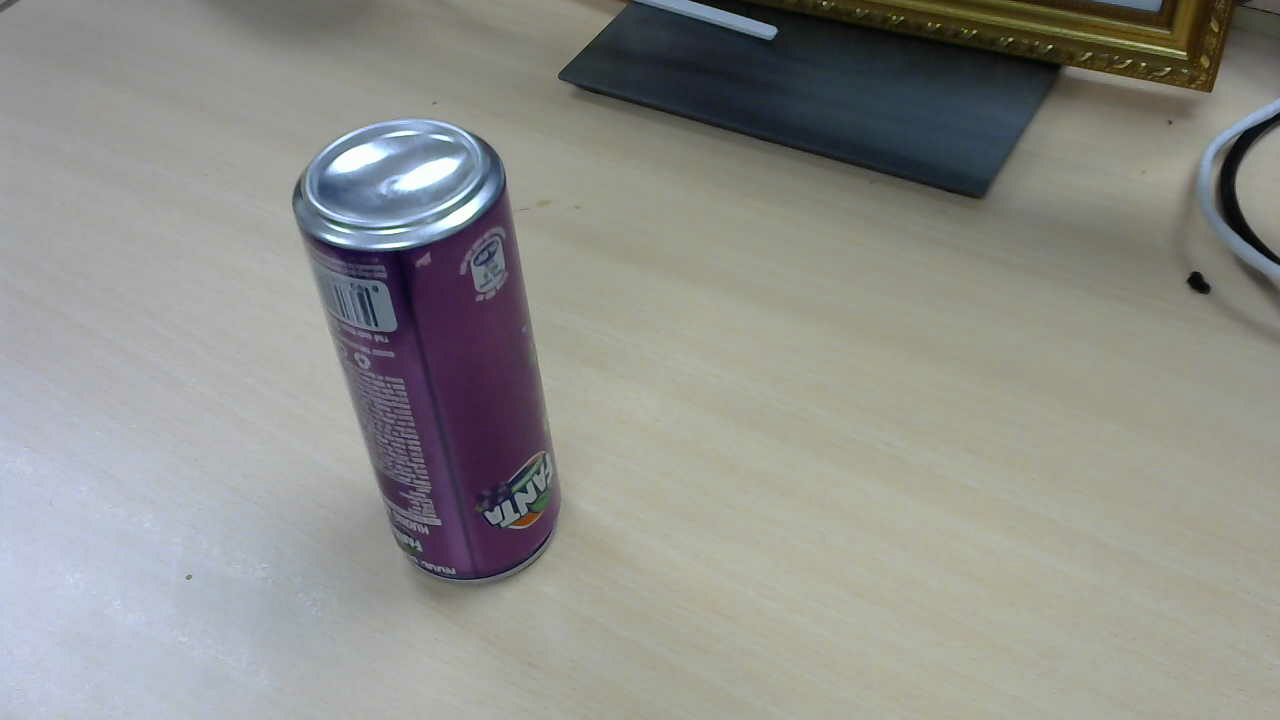Fanta: (298, 121, 567, 588)
